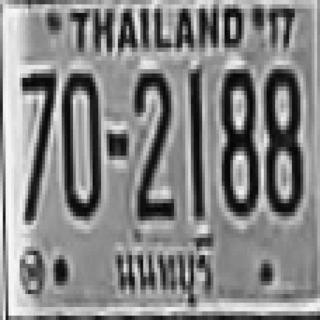N00: (62, 69, 98, 216)
N01: (188, 67, 202, 214)
N02: (133, 67, 173, 218)
N07: (20, 69, 53, 220)
N08: (265, 67, 303, 213), (221, 68, 257, 215)
P37: (113, 230, 216, 306)
